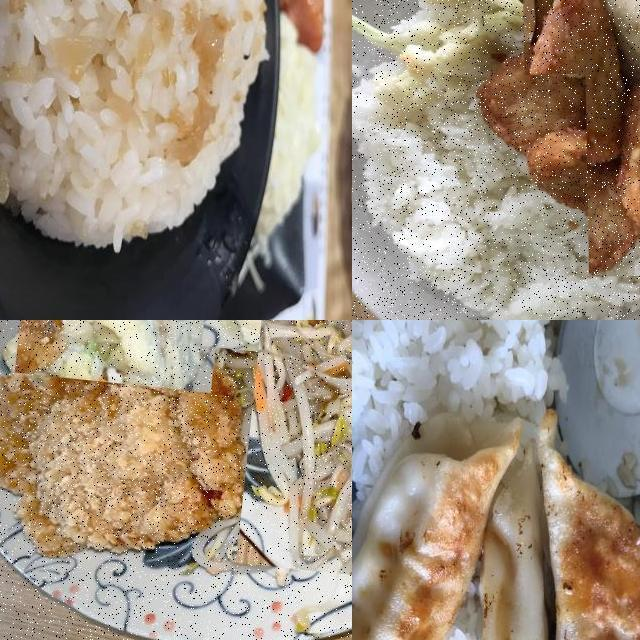Rice: (0, 0, 269, 260), (352, 73, 589, 320), (352, 320, 567, 426)
chinese_cabbage: (200, 320, 352, 426)
fried_chicken: (0, 320, 260, 575)
fried_dumplings: (352, 430, 640, 640)
fried_eggs: (10, 320, 236, 432)
mung_bean_sprouts: (227, 320, 352, 580)
triangle_hash_brown: (498, 10, 640, 254)
